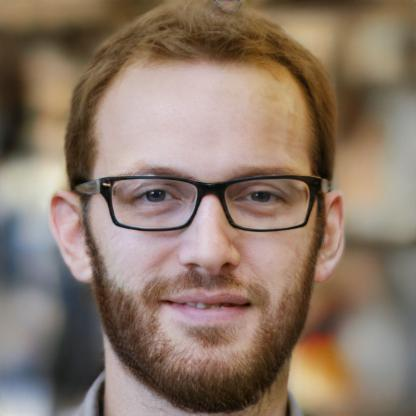glasses: (90, 166, 315, 237)
